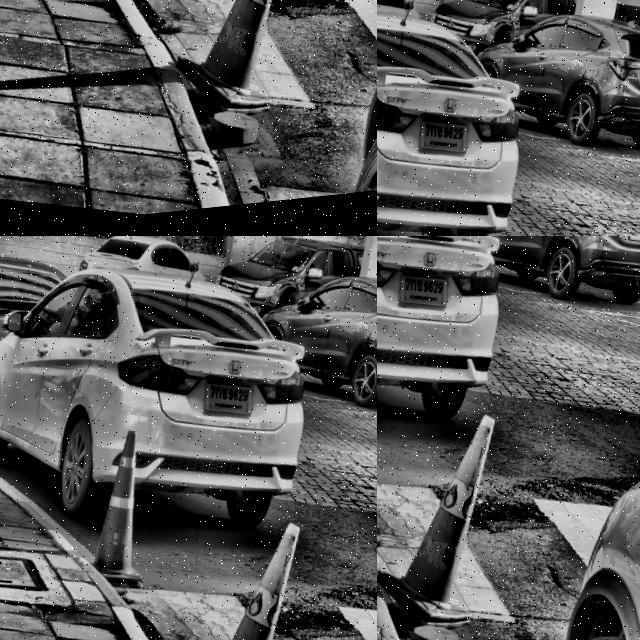license-plate: (386, 269, 450, 327), (0, 298, 15, 332), (620, 236, 640, 258)
